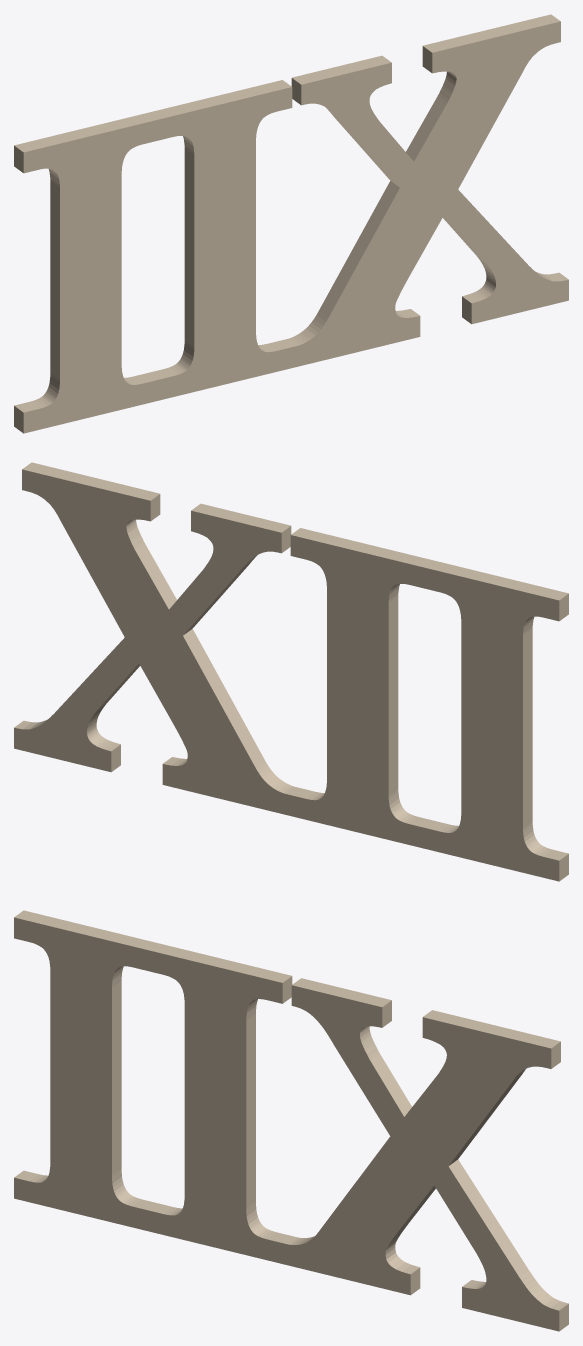
The model's file is grandclock.glb.
3 renders of one model, top to bottom at view 1: azimuth 30°, elevation 25°; view 2: azimuth 150°, elevation 25°; view 3: azimuth 330°, elevation 25°, orthographic.
Visible parts, largest first — view 1: Mesh_Mesh_head_geo.001_lambert2SG.001; view 2: Mesh_Mesh_head_geo.001_lambert2SG.001; view 3: Mesh_Mesh_head_geo.001_lambert2SG.001.
Boxes of the visible parts, left/top/right/bottom form: Mesh_Mesh_head_geo.001_lambert2SG.001: left=14, top=14, right=568, bottom=433; Mesh_Mesh_head_geo.001_lambert2SG.001: left=14, top=462, right=568, bottom=881; Mesh_Mesh_head_geo.001_lambert2SG.001: left=14, top=910, right=568, bottom=1331.
Bounding box in the file's own units: 0.00325 × 0.0016 × 0.0001.
